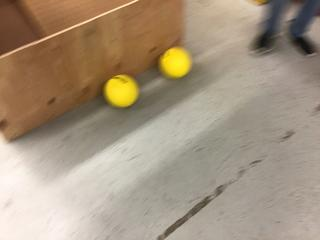power_cell: (101, 71, 147, 114), (160, 44, 193, 81)
